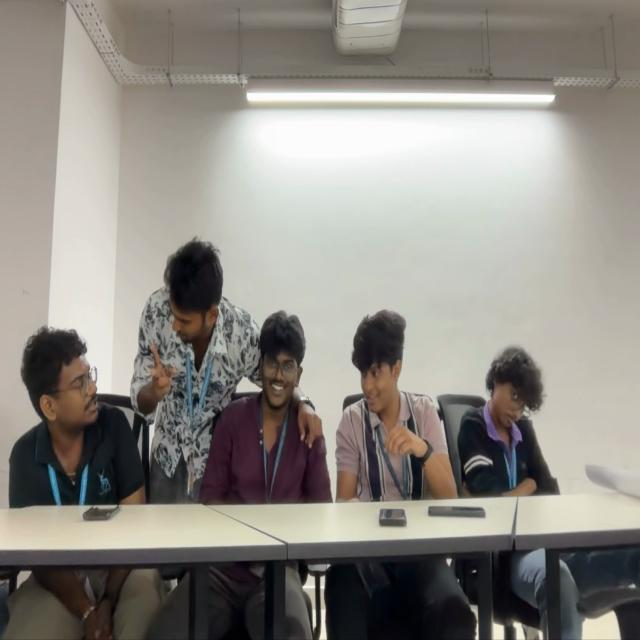Isolated: (460, 346, 558, 496)
socializing: (8, 241, 456, 500)
